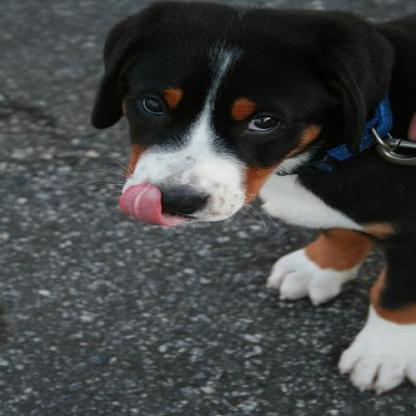Greater_Swiss_Mountain_dog: (83, 0, 413, 395)
